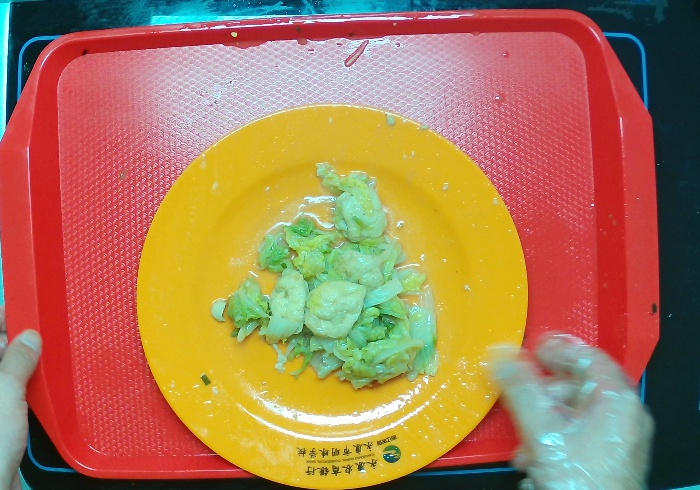YKMZ-Ju_Se_Mian_Pan: (133, 92, 531, 490)
